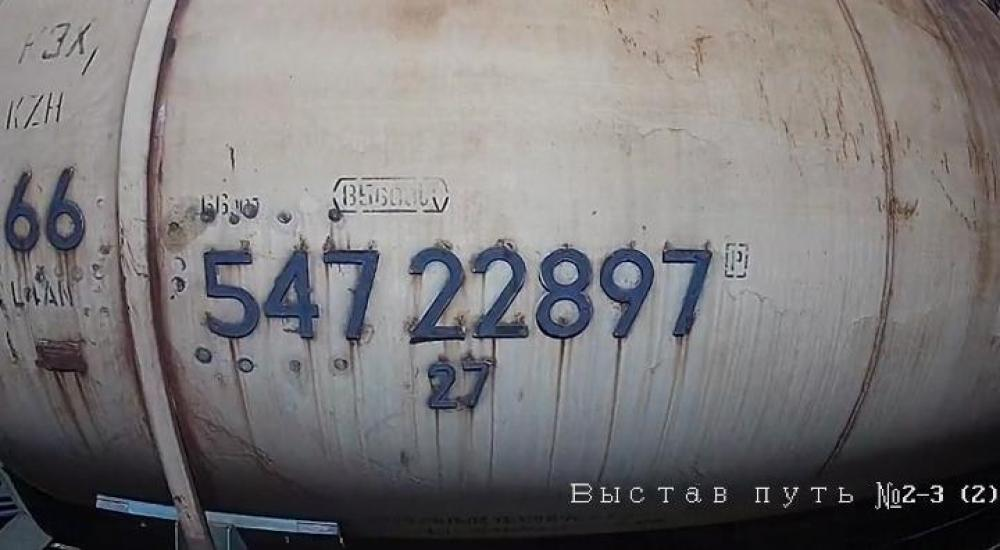Wagon-number: (197, 241, 720, 345)
